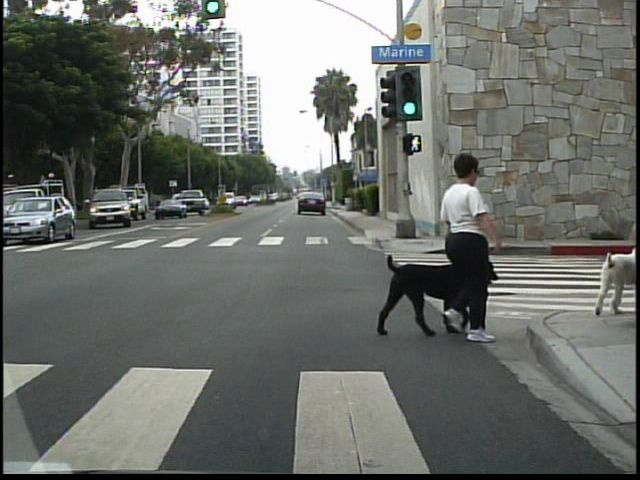person: (428, 146, 500, 346)
